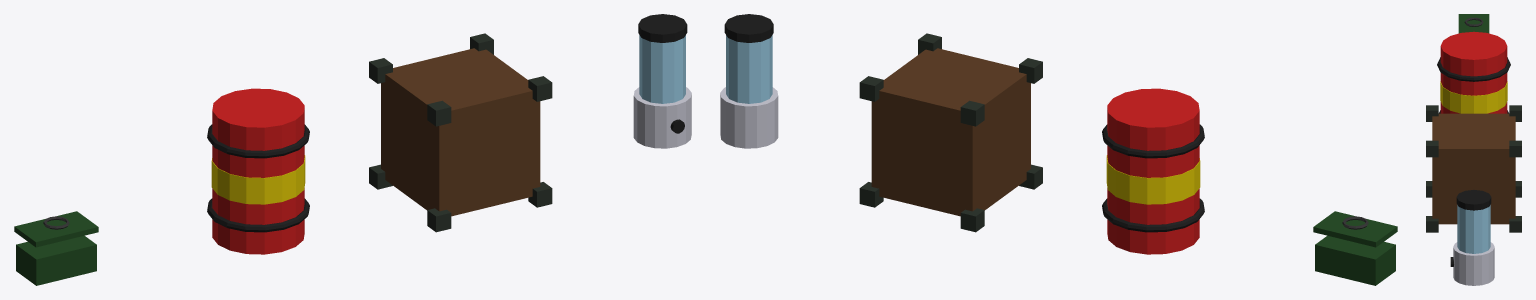
File: GameProps.obj
The picture shows the model from 3 angles, left to right: view 1: azimuth 30°, elevation 25°; view 2: azimuth 150°, elevation 25°; view 3: azimuth 270°, elevation 25°; orthographic projection. The views are drawn at different scales.
Parts seen in each view (by area): view 1: Prop_Supply_Crate, Prop_Explosive_Barrel, Prop_Kitchen_Blender, Prop_Ammo_Box; view 2: Prop_Supply_Crate, Prop_Explosive_Barrel, Prop_Kitchen_Blender, Prop_Ammo_Box; view 3: Prop_Supply_Crate, Prop_Explosive_Barrel, Prop_Kitchen_Blender, Prop_Ammo_Box.
Boxes of the visible parts, <box> form: Prop_Supply_Crate: <box>369,33,552,232</box>; Prop_Explosive_Barrel: <box>207,88,309,254</box>; Prop_Kitchen_Blender: <box>633,14,691,148</box>; Prop_Ammo_Box: <box>14,211,98,285</box>; Prop_Supply_Crate: <box>859,33,1042,232</box>; Prop_Explosive_Barrel: <box>1102,88,1204,254</box>; Prop_Kitchen_Blender: <box>720,14,778,148</box>; Prop_Ammo_Box: <box>1313,211,1397,285</box>; Prop_Supply_Crate: <box>1426,105,1521,232</box>; Prop_Explosive_Barrel: <box>1437,31,1510,113</box>; Prop_Kitchen_Blender: <box>1450,190,1494,285</box>; Prop_Ammo_Box: <box>1458,14,1489,33</box>.
Size of the model in its own units: 6.56 by 1.28 by 1.15.
